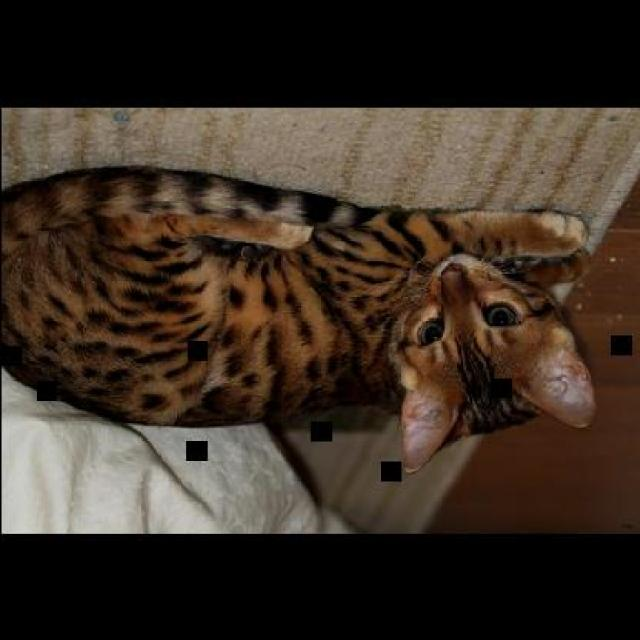unauthorized: (0, 163, 595, 474)
